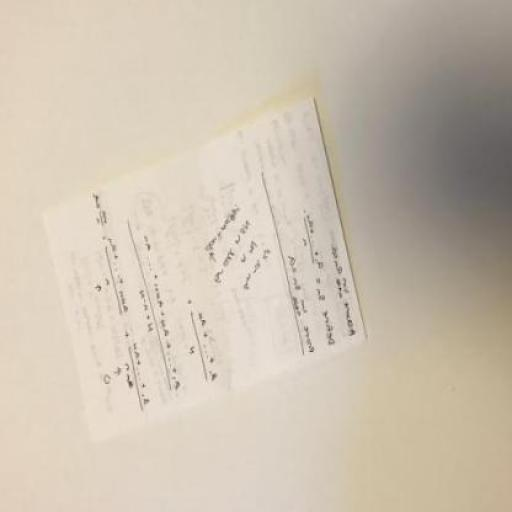paper: (41, 96, 365, 443)
